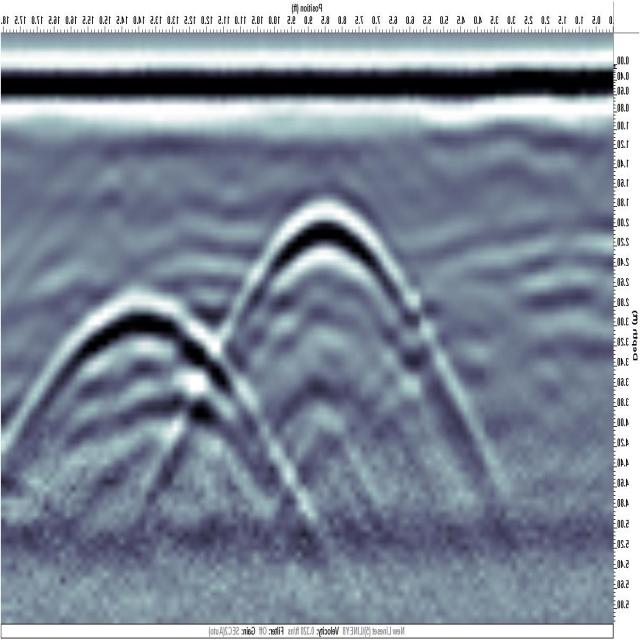hyperbola: (23, 268, 252, 445), (224, 178, 434, 344)
